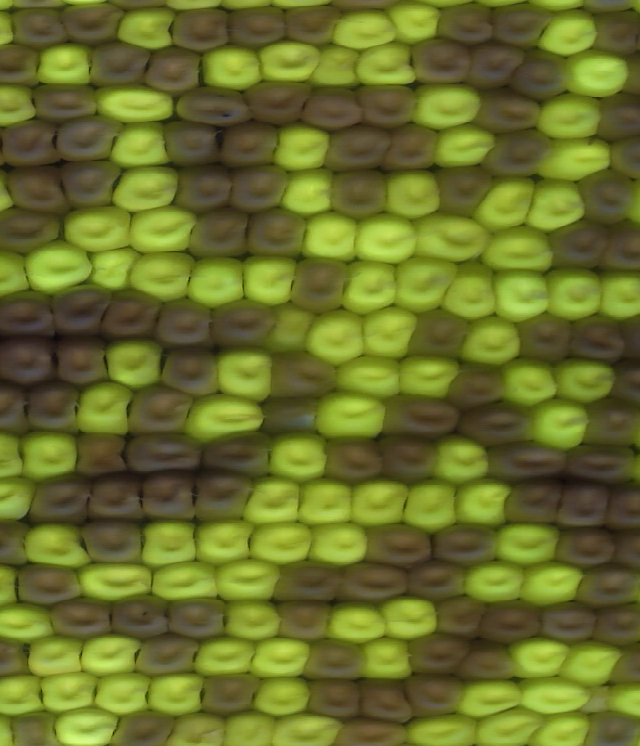fluorescent: (180, 390, 274, 448), (408, 209, 500, 266), (17, 237, 96, 302), (69, 374, 139, 445), (208, 341, 283, 406), (309, 388, 395, 444), (123, 246, 203, 306), (131, 512, 213, 570), (300, 304, 373, 369), (388, 253, 464, 315), (179, 251, 252, 315), (455, 311, 529, 374), (263, 115, 338, 177), (408, 77, 488, 135), (237, 471, 313, 532), (476, 221, 560, 276), (519, 175, 592, 238), (122, 202, 203, 258), (545, 350, 623, 408), (349, 209, 423, 270), (92, 80, 182, 130), (98, 333, 174, 392), (557, 44, 633, 103), (396, 474, 468, 536), (18, 516, 99, 571), (523, 393, 594, 455), (347, 40, 428, 94), (292, 206, 366, 265), (13, 426, 87, 485), (336, 254, 403, 319), (263, 427, 338, 485), (233, 248, 303, 310), (379, 164, 450, 225), (250, 35, 330, 89), (528, 89, 606, 144), (437, 256, 503, 321), (325, 2, 404, 56), (531, 135, 616, 185), (192, 40, 272, 93), (59, 202, 139, 255), (105, 116, 182, 171), (553, 635, 630, 690), (290, 473, 363, 531), (298, 40, 372, 97), (540, 263, 608, 325), (108, 161, 186, 215), (498, 631, 576, 685), (489, 518, 568, 571), (321, 593, 394, 650), (470, 173, 537, 235), (332, 352, 410, 405), (492, 353, 562, 412), (190, 514, 263, 570), (143, 557, 228, 605), (485, 264, 553, 324), (243, 516, 318, 570), (513, 557, 589, 610), (346, 474, 413, 534), (73, 557, 162, 602), (374, 591, 448, 645), (428, 431, 498, 488), (532, 5, 603, 61), (111, 1, 183, 56), (448, 474, 517, 531), (393, 348, 467, 401), (208, 554, 286, 604), (428, 120, 500, 174), (354, 302, 422, 359), (188, 631, 265, 681), (450, 673, 530, 721), (260, 299, 325, 358), (513, 673, 594, 720), (301, 519, 375, 570), (33, 39, 104, 92), (75, 630, 148, 681), (458, 557, 531, 607), (275, 162, 340, 218), (246, 634, 318, 684), (355, 633, 424, 685), (217, 595, 290, 644), (377, 1, 451, 49), (139, 669, 208, 720), (19, 632, 91, 680), (88, 668, 153, 721), (469, 704, 550, 746), (36, 666, 103, 716), (48, 703, 124, 746), (248, 670, 317, 717), (82, 242, 144, 294), (401, 709, 486, 746), (590, 263, 640, 324), (519, 705, 593, 746), (0, 600, 63, 648), (268, 709, 348, 746), (0, 670, 58, 721), (217, 707, 285, 746), (161, 709, 231, 746), (0, 472, 43, 527), (0, 79, 42, 130), (0, 244, 36, 303), (0, 425, 30, 488), (604, 678, 640, 720)
nonfluorescent: (259, 337, 344, 406), (148, 340, 233, 402), (118, 377, 201, 439), (183, 464, 262, 528), (196, 424, 281, 481), (371, 421, 443, 488), (181, 200, 254, 266), (202, 292, 284, 350), (115, 426, 210, 476), (241, 202, 316, 265), (376, 387, 461, 442), (433, 354, 511, 413), (506, 305, 579, 367), (355, 517, 440, 570), (428, 161, 503, 221), (141, 293, 216, 353), (3, 159, 77, 219), (10, 556, 92, 610), (485, 436, 570, 488), (44, 280, 113, 344), (507, 43, 577, 106), (130, 461, 200, 524), (479, 126, 556, 183), (264, 555, 350, 606), (222, 158, 296, 217), (453, 400, 542, 449), (20, 374, 87, 439), (285, 253, 356, 314), (333, 559, 419, 609), (319, 121, 394, 178), (348, 76, 427, 130), (137, 40, 210, 98), (172, 81, 255, 132), (56, 152, 126, 212), (561, 435, 640, 488), (402, 307, 478, 362), (322, 162, 394, 220), (23, 471, 96, 528), (48, 111, 128, 163), (250, 392, 328, 445), (93, 286, 163, 345), (499, 472, 571, 529), (466, 85, 548, 135), (242, 77, 322, 128), (168, 162, 240, 218), (574, 166, 640, 227), (80, 37, 154, 91), (157, 593, 240, 641), (573, 395, 640, 454), (323, 433, 390, 492), (105, 591, 174, 648), (425, 518, 502, 569), (46, 590, 120, 643), (350, 674, 421, 729), (156, 113, 223, 171), (301, 671, 371, 726), (215, 113, 280, 172), (297, 80, 368, 134), (375, 118, 446, 172), (549, 522, 622, 574), (128, 629, 205, 678), (47, 333, 113, 390), (29, 74, 102, 125), (401, 628, 474, 679), (84, 469, 148, 527), (400, 667, 470, 720), (0, 202, 66, 258), (564, 311, 628, 368), (431, 1, 501, 53), (569, 557, 640, 608), (298, 632, 369, 683), (197, 668, 268, 719), (0, 328, 59, 389), (553, 474, 614, 533), (78, 516, 147, 568), (544, 217, 609, 272), (486, 2, 556, 53), (460, 40, 526, 94), (54, 3, 129, 50), (428, 590, 494, 643), (166, 5, 235, 55), (408, 36, 477, 86), (536, 596, 601, 649), (454, 636, 521, 687), (225, 1, 296, 49), (401, 558, 472, 606), (477, 595, 543, 646), (0, 287, 62, 341), (267, 594, 335, 643), (0, 116, 62, 169), (99, 707, 180, 746), (582, 4, 640, 58), (327, 712, 417, 746), (73, 430, 138, 477), (277, 4, 344, 49), (591, 84, 640, 144), (4, 6, 72, 49), (592, 218, 640, 276), (5, 704, 71, 746), (586, 599, 640, 648), (0, 40, 46, 92), (598, 478, 640, 531), (0, 373, 33, 440), (584, 708, 640, 746), (0, 515, 35, 573), (0, 632, 39, 683), (604, 130, 640, 181), (606, 522, 640, 573), (610, 356, 640, 412), (607, 638, 640, 687)
